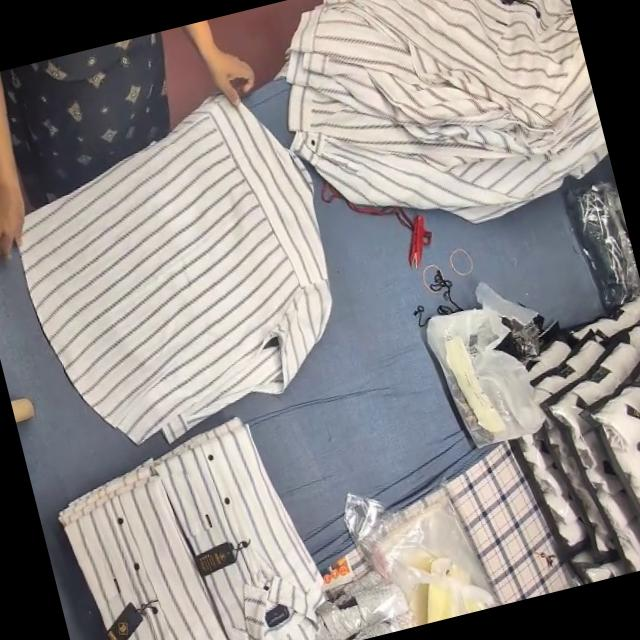new-garment: (20, 96, 330, 442)
